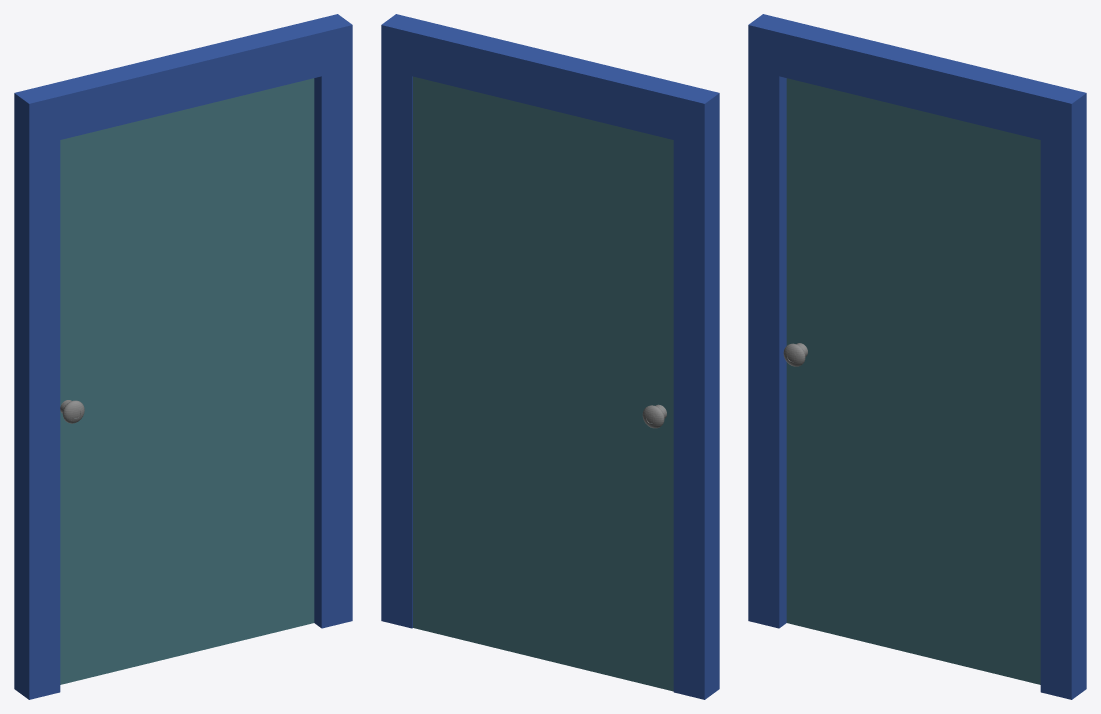
The model's file is Door.fbx.
3 renders of one model, left to right at view 1: azimuth 30°, elevation 25°; view 2: azimuth 150°, elevation 25°; view 3: azimuth 330°, elevation 25°, orthographic.
Visible parts, largest first — view 1: Door, Door_frame; view 2: Door, Door_frame; view 3: Door, Door_frame.
Boxes of the visible parts, x1=… form: Door: x1=60, y1=78, x2=314, y2=684; Door_frame: x1=14, y1=14, x2=352, y2=699; Door: x1=413, y1=76, x2=673, y2=691; Door_frame: x1=381, y1=14, x2=719, y2=699; Door: x1=786, y1=78, x2=1040, y2=684; Door_frame: x1=748, y1=14, x2=1086, y2=699.
Bounding box in the file's own units: 1.14 × 2 × 0.1555.
3 materials, 3 textured.
